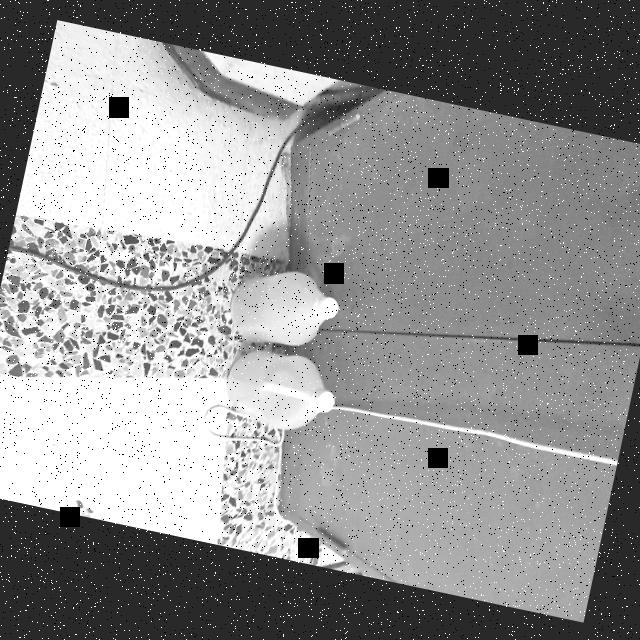chemical_plastic_gallon: (220, 255, 352, 356), (216, 343, 346, 442)
